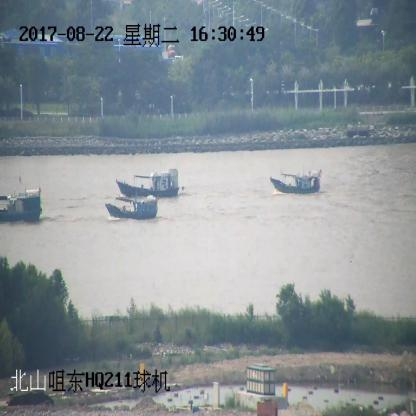Fishing Boat: (116, 168, 180, 198), (0, 182, 43, 223), (271, 170, 322, 196), (106, 195, 158, 220)
